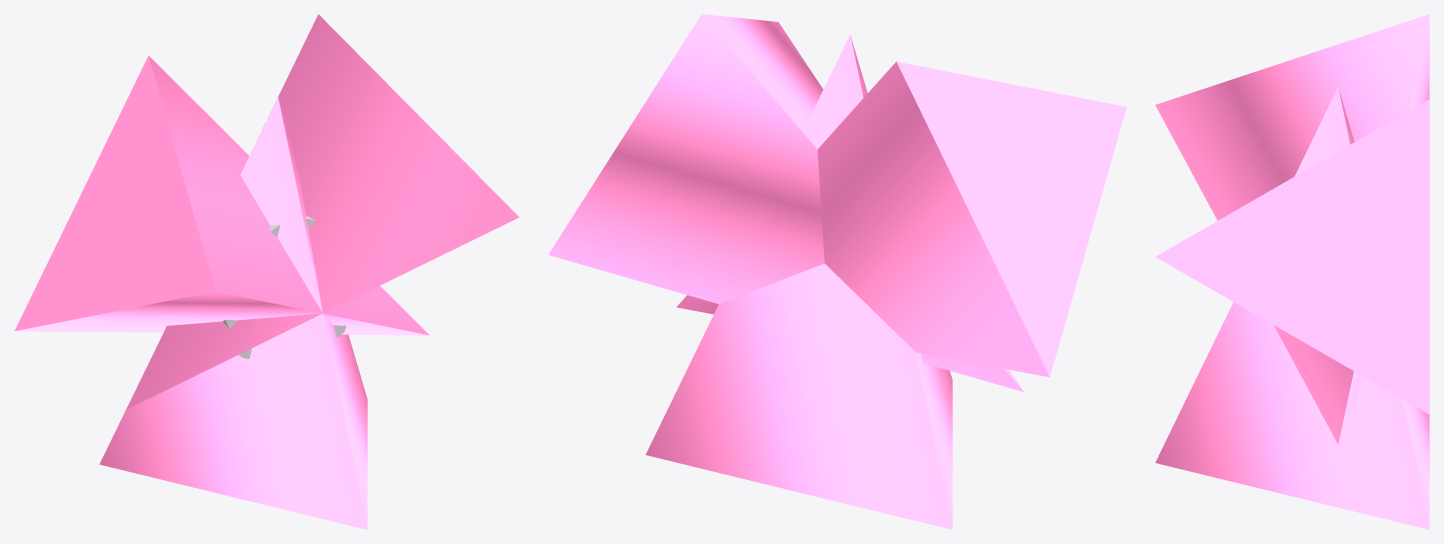
File: penashuri.glb
3 renders of one model, left to right at view 1: azimuth 30°, elevation 25°; view 2: azimuth 150°, elevation 25°; view 3: azimuth 270°, elevation 25°, orthographic. The views are drawn at different scales.
Size of the model in its own units: 0.4244 by 0.3675 by 0.225.
